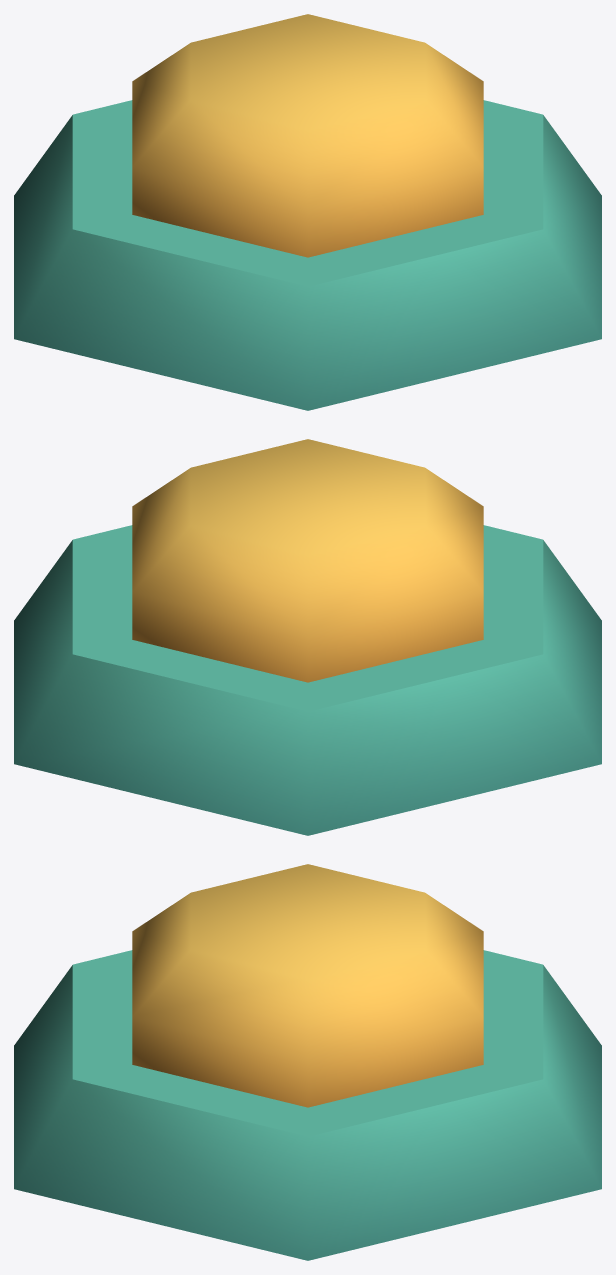
Rendered from button-round.glb.
The picture shows the model from 3 angles, top to bottom: view 1: azimuth 30°, elevation 25°; view 2: azimuth 150°, elevation 25°; view 3: azimuth 270°, elevation 25°; orthographic projection.
Parts seen in each view (by area): view 1: button-round, button; view 2: button-round, button; view 3: button-round, button.
Boxes of the visible parts, x1,y1,x2,y2 form: button-round: (14,100,601,410); button: (132,14,483,257); button-round: (14,525,601,835); button: (132,439,483,682); button-round: (14,950,601,1260); button: (132,864,483,1107).
Size of the model in its own units: 0.58 by 0.185 by 0.5023.
